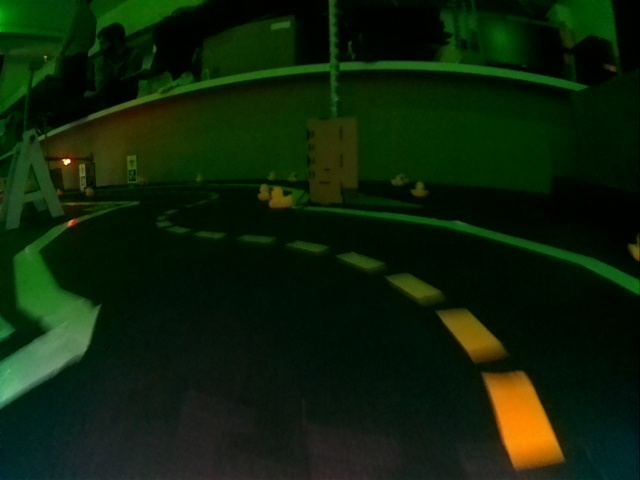Duckie: (269, 187, 292, 208), (629, 236, 639, 262), (414, 182, 429, 198), (259, 188, 270, 200), (392, 175, 404, 186), (288, 173, 298, 182), (85, 187, 94, 197), (195, 174, 203, 183), (56, 188, 64, 197), (268, 173, 275, 180)
Intersection sign: (128, 159, 137, 167)
QR code: (128, 171, 136, 181), (79, 176, 86, 185)
Traffic light: (61, 157, 71, 166)
